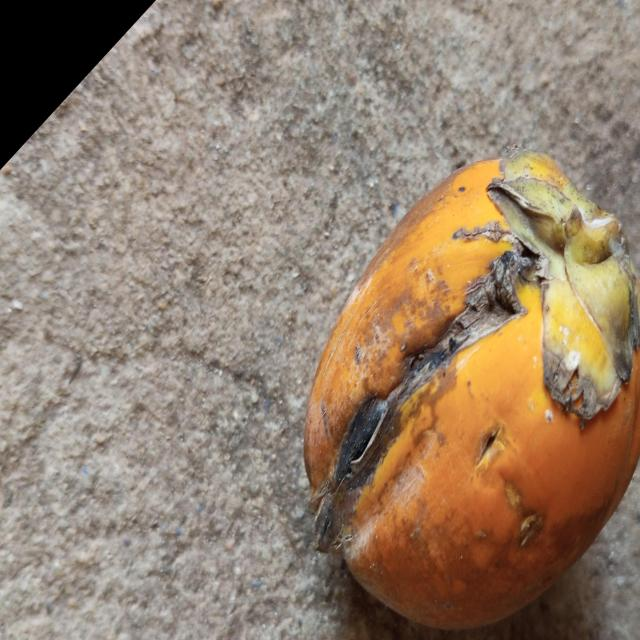damaged: (303, 155, 640, 636)
